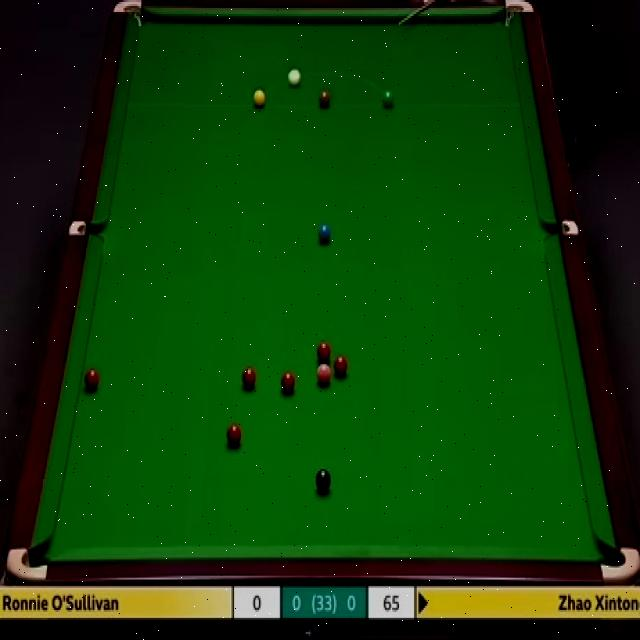black-ball: (316, 469, 330, 495)
blue-ball: (317, 222, 330, 244)
brown-ball: (318, 88, 332, 109)
green-ball: (382, 89, 396, 107)
pink-ball: (316, 364, 331, 386)
red-ball: (316, 338, 333, 365), (225, 423, 243, 448), (82, 368, 99, 392), (279, 370, 296, 394), (241, 368, 258, 388), (335, 354, 347, 378)
white-ball: (288, 67, 302, 88)
yellow-ball: (251, 89, 266, 109)
